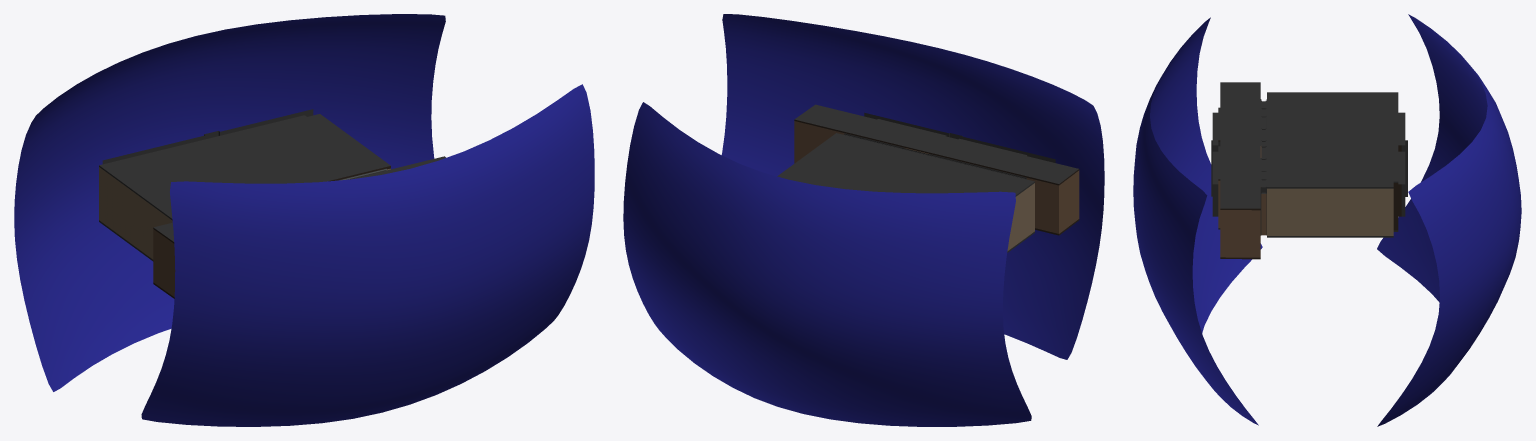
The model's file is prototipo_mapa_vista_sentarse.glb.
3 views of the same model, side by side, from view 1: azimuth 30°, elevation 25°; view 2: azimuth 150°, elevation 25°; view 3: azimuth 270°, elevation 25° (orthographic). The views are drawn at different scales.
Visible parts, largest first — view 1: background, room; view 2: background, room; view 3: background, room.
Part boxes in pixels (left/top/right/bottom): background: left=14, top=14, right=594, bottom=426; room: left=99, top=109, right=445, bottom=298; background: left=623, top=14, right=1104, bottom=426; room: left=777, top=104, right=1079, bottom=252; background: left=1133, top=14, right=1521, bottom=426; room: left=1211, top=82, right=1407, bottom=259.
Bounding box in the file's own units: 90.89 × 55.25 × 77.68.
